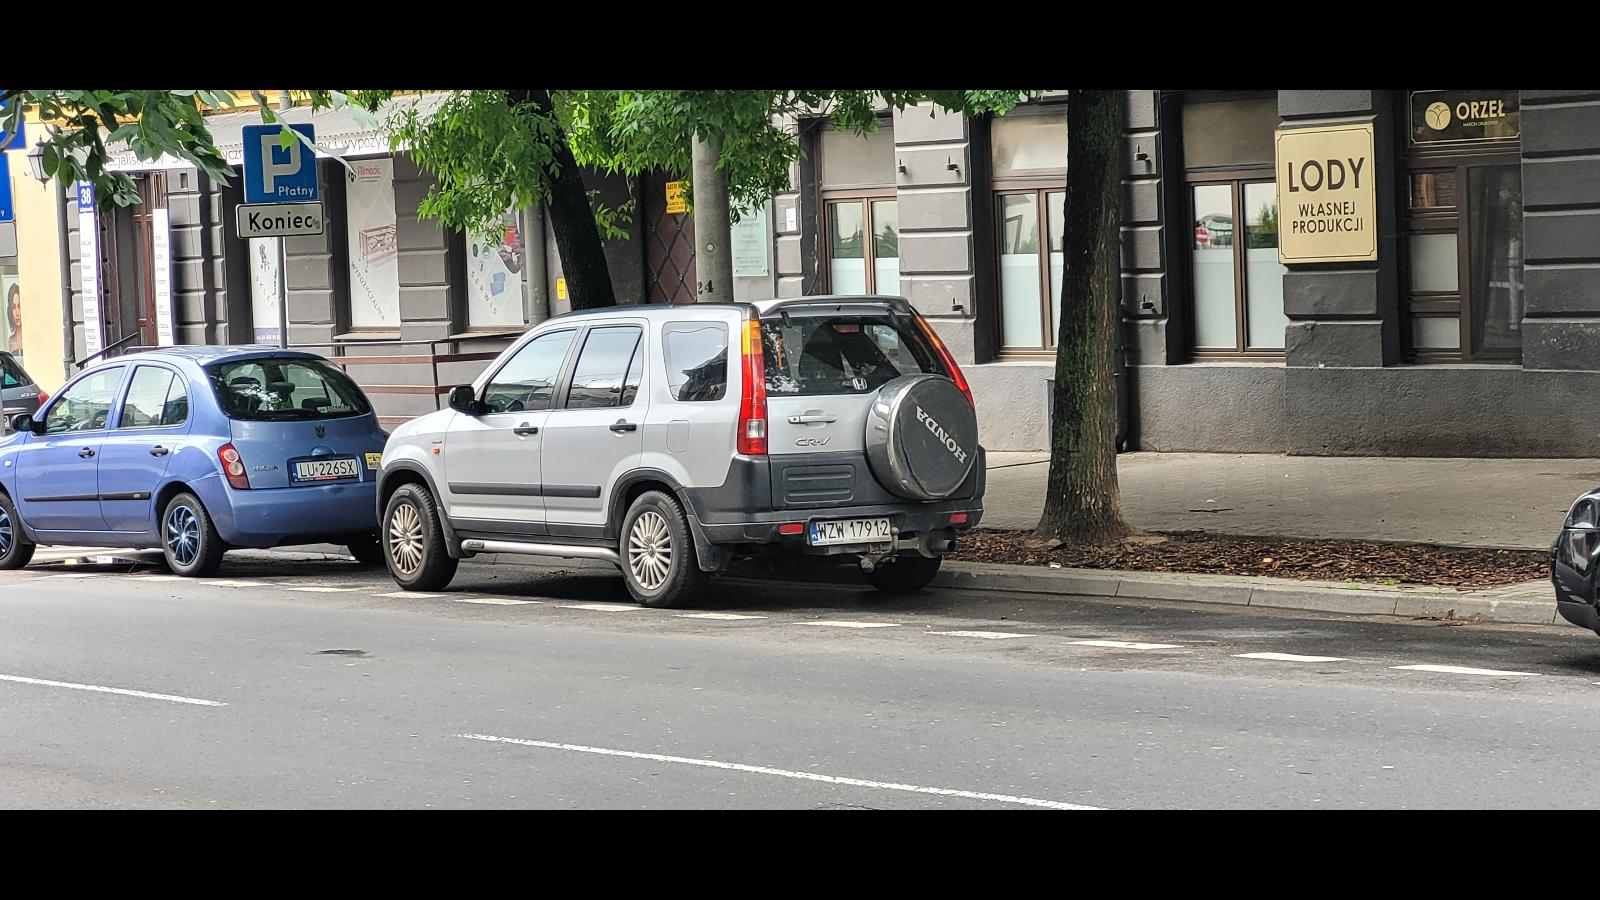plates: (807, 516, 893, 548), (288, 458, 358, 482)
